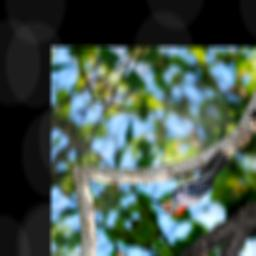Woodpecker: (145, 130, 238, 226)
